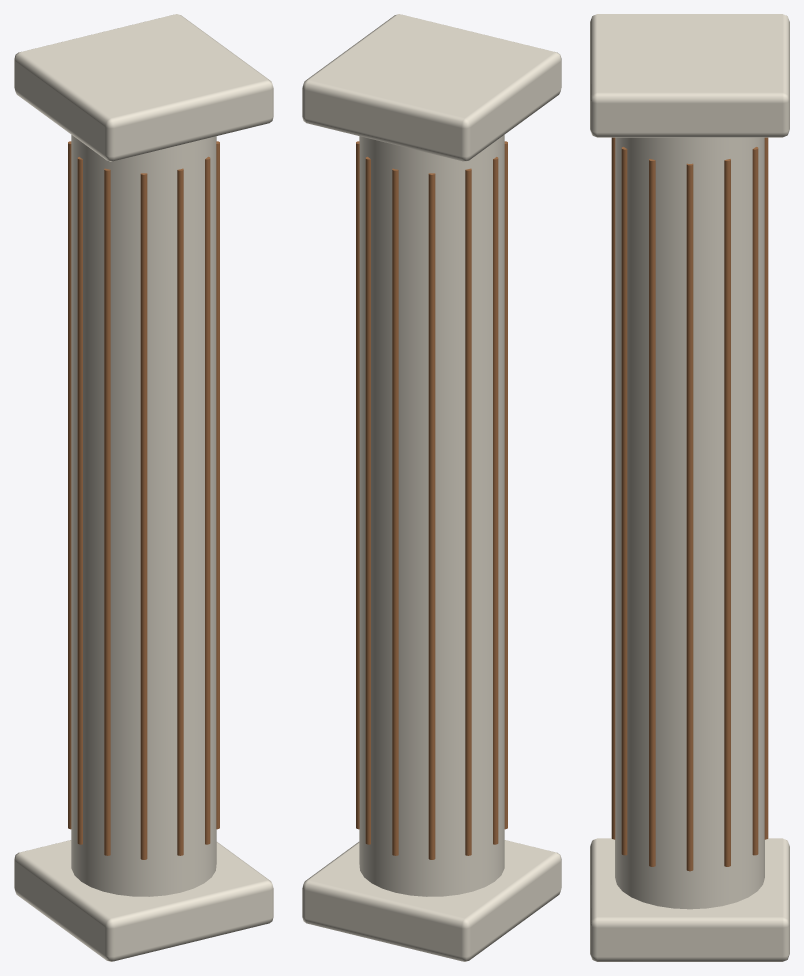
Rendered from wp-colonne-classique.glb.
3 renders of one model, left to right at view 1: azimuth 30°, elevation 25°; view 2: azimuth 150°, elevation 25°; view 3: azimuth 270°, elevation 25°, orthographic. The views are drawn at different scales.
Parts seen in each view (by area): view 1: wp-colonne-classique; view 2: wp-colonne-classique; view 3: wp-colonne-classique.
Boxes of the visible parts, x1=… form: wp-colonne-classique: x1=14, y1=14, x2=273, y2=961; wp-colonne-classique: x1=302, y1=14, x2=561, y2=961; wp-colonne-classique: x1=590, y1=14, x2=789, y2=961.
Bounding box in the file's own units: 0.5 × 2.4 × 0.5.
